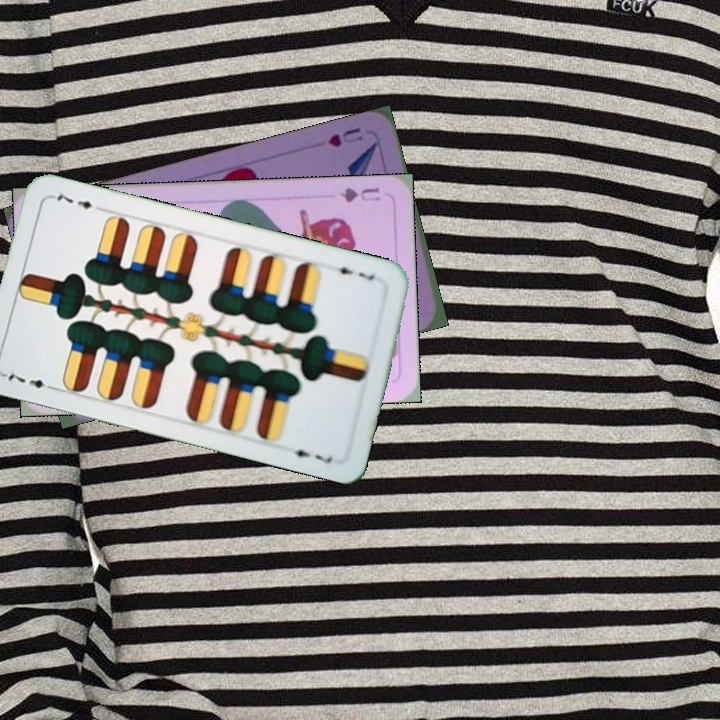E7: (1, 367, 60, 394), (329, 260, 378, 283)
GU: (336, 184, 383, 205)
HU: (324, 123, 365, 150)
